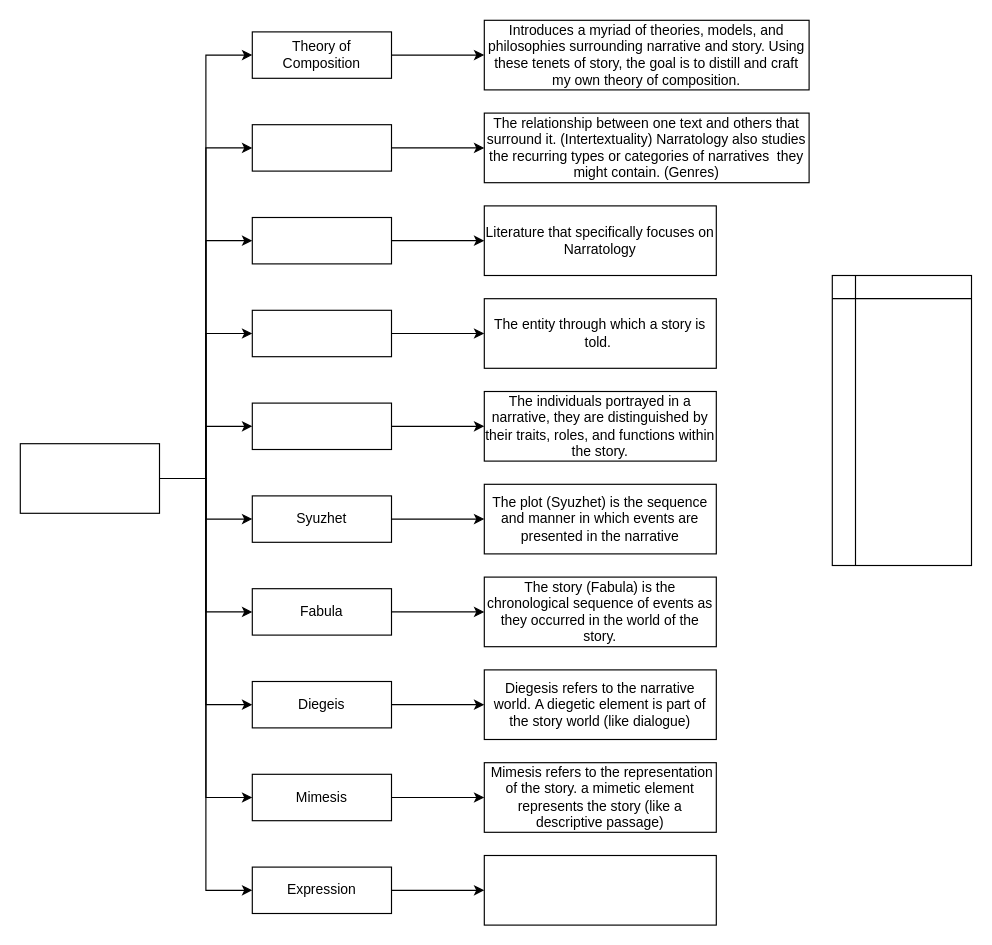
Some shapes in this 992 by 945 pixel diagram are drawn without their labels. The shapes that lost their labels are listed below. From the top down, each one's centre as x and y in pixels, then its label:
At pixel 321 147: "Patterns".
At pixel 321 240: "Research".
At pixel 321 333: "Narrator".
At pixel 321 425: "Characters".
At pixel 901 420: "THE PAT RES NAR CHA SYU FAB DIE MIM EXP".
At pixel 89 478: "Narratology".
At pixel 599 889: "Authorship".
